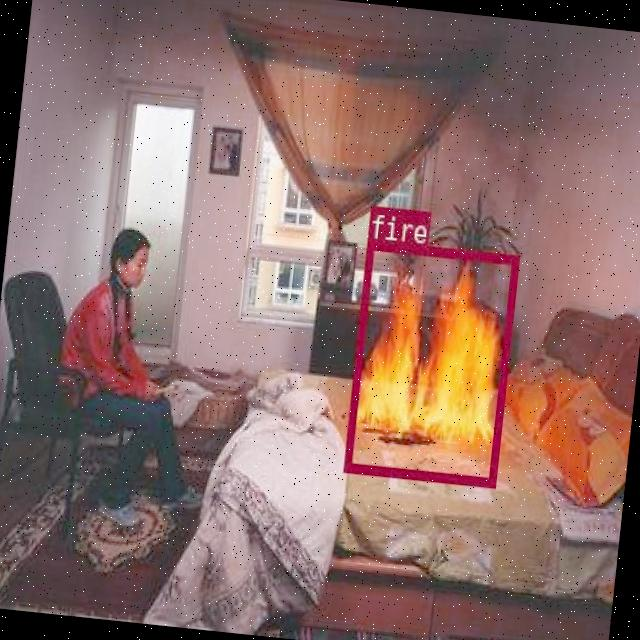fire: (342, 238, 518, 484)
